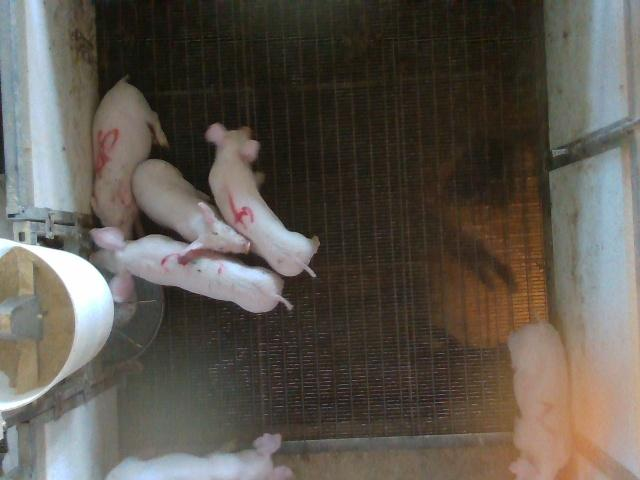pig-2: (509, 322, 571, 479)
pig-3: (90, 228, 292, 312)
pig-4: (205, 122, 320, 276)
pig-5: (91, 76, 168, 239)
